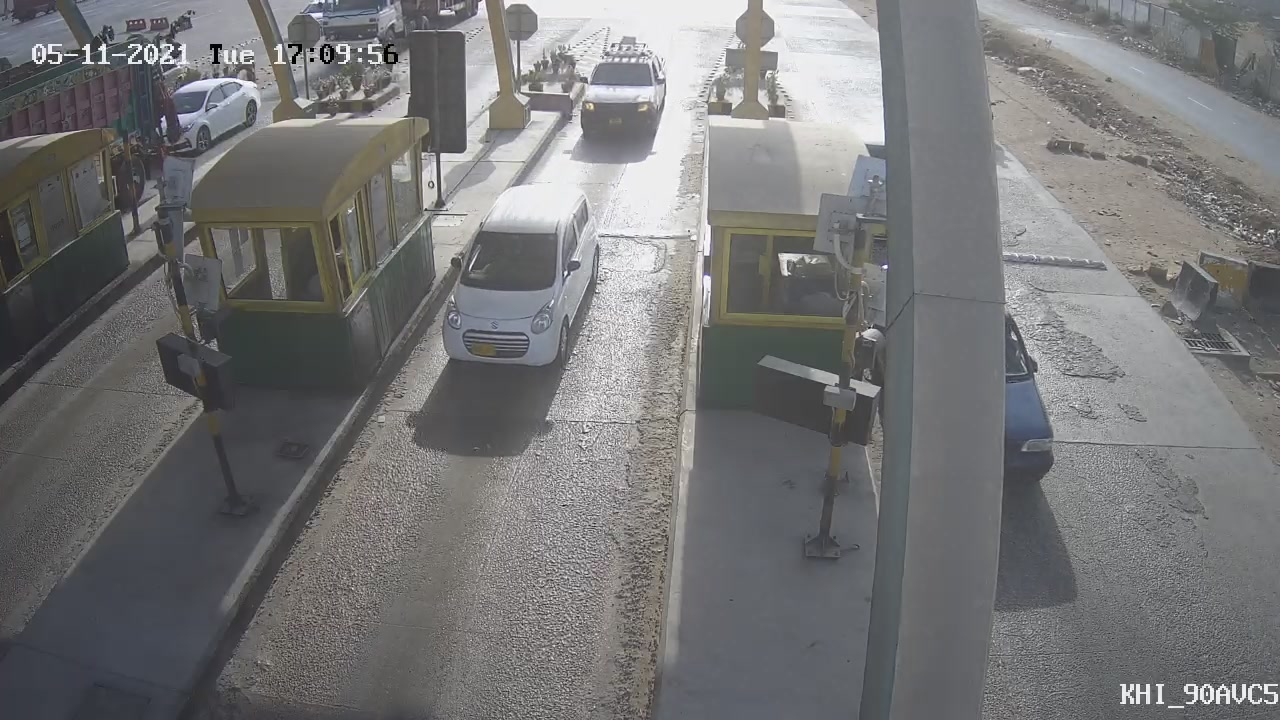F1: (411, 165, 618, 390), (566, 31, 679, 149)
